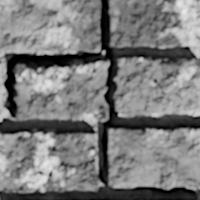brick: (0, 129, 98, 191), (105, 125, 199, 187), (0, 0, 99, 51), (106, 0, 199, 46), (9, 196, 193, 199), (0, 72, 2, 120)
broken_brick: (13, 58, 107, 122), (115, 54, 199, 117)
crack: (2, 0, 198, 199)
